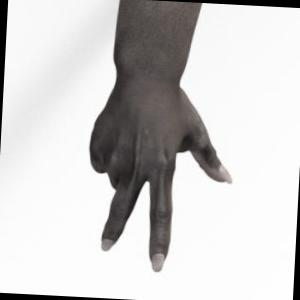scissors: (90, 0, 231, 271)
